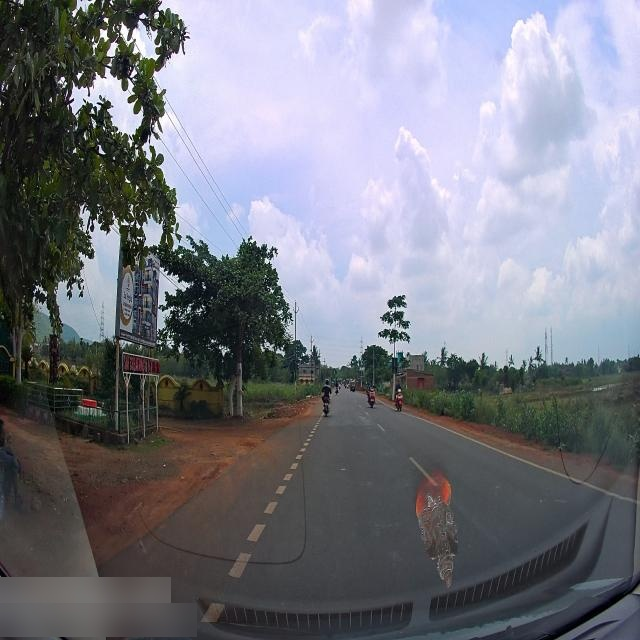pothole: (359, 406, 367, 424)
